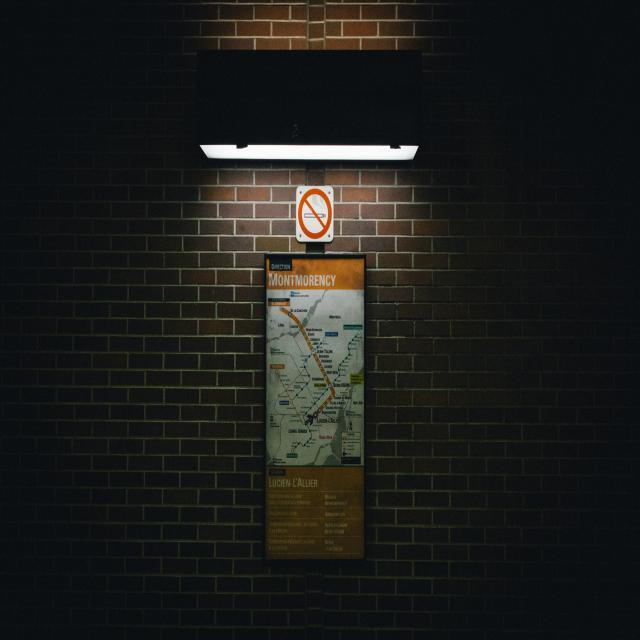tubelight_on: (199, 138, 420, 168)
